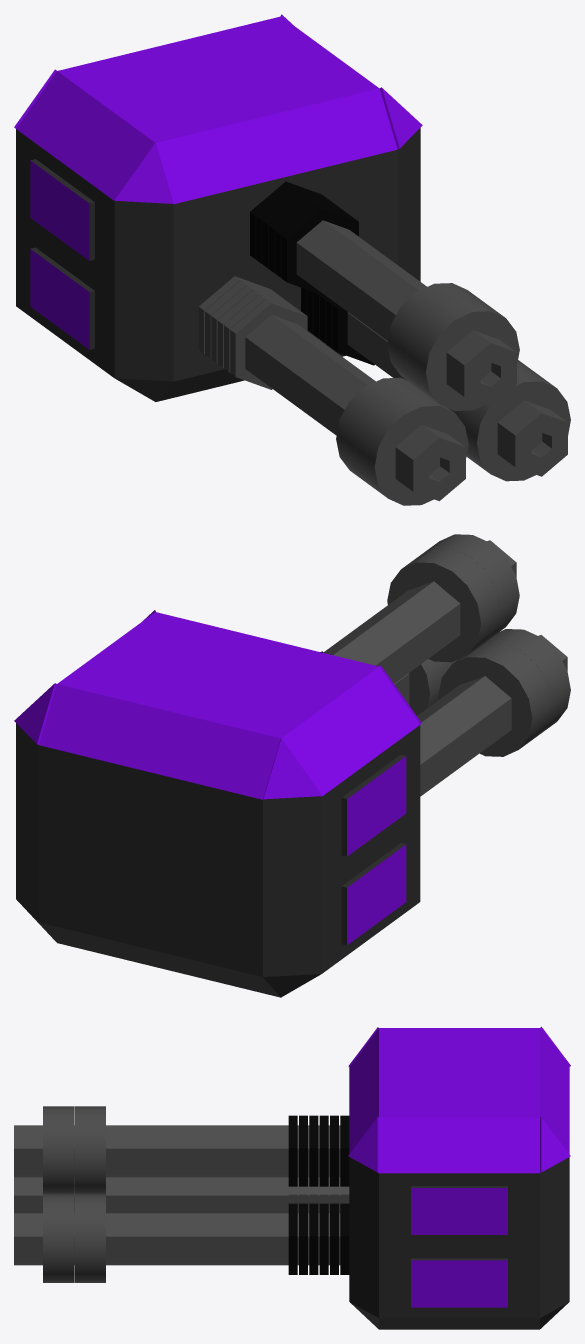
Rendered from fiolet fbx.fbx.
3 renders of one model, top to bottom at view 1: azimuth 30°, elevation 25°; view 2: azimuth 150°, elevation 25°; view 3: azimuth 270°, elevation 25°, orthographic. The views are drawn at different scales.
Visible parts, largest first — view 1: opora fiolet, gun 4.002, gun 4, gun 4.001; view 2: opora fiolet, gun 4.002, gun 4, gun 4.001; view 3: opora fiolet, gun 4.001, gun 4.002, gun 4.
Part boxes in pixels (x1,y1,x2,y2): opora fiolet: (14,14,422,401); gun 4.002: (250,181,519,410); gun 4: (198,276,468,505); gun 4.001: (301,287,570,481); opora fiolet: (14,610,421,997); gun 4.002: (320,534,519,683); gun 4: (417,629,570,796); gun 4.001: (394,659,457,715); opora fiolet: (348,1026,570,1329); gun 4.001: (14,1194,349,1282); gun 4.002: (14,1106,349,1194); gun 4: (14,1177,349,1213).
Size of the model in its own units: 128 by 101 by 239.
